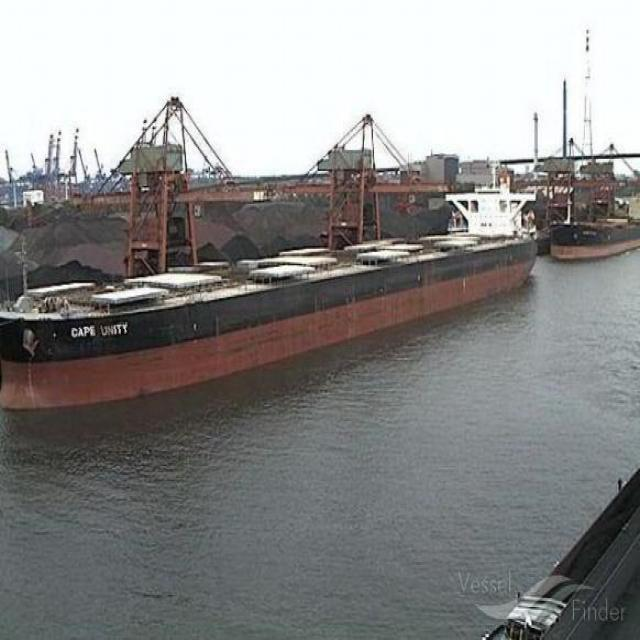OCR: (67, 322, 133, 340)
